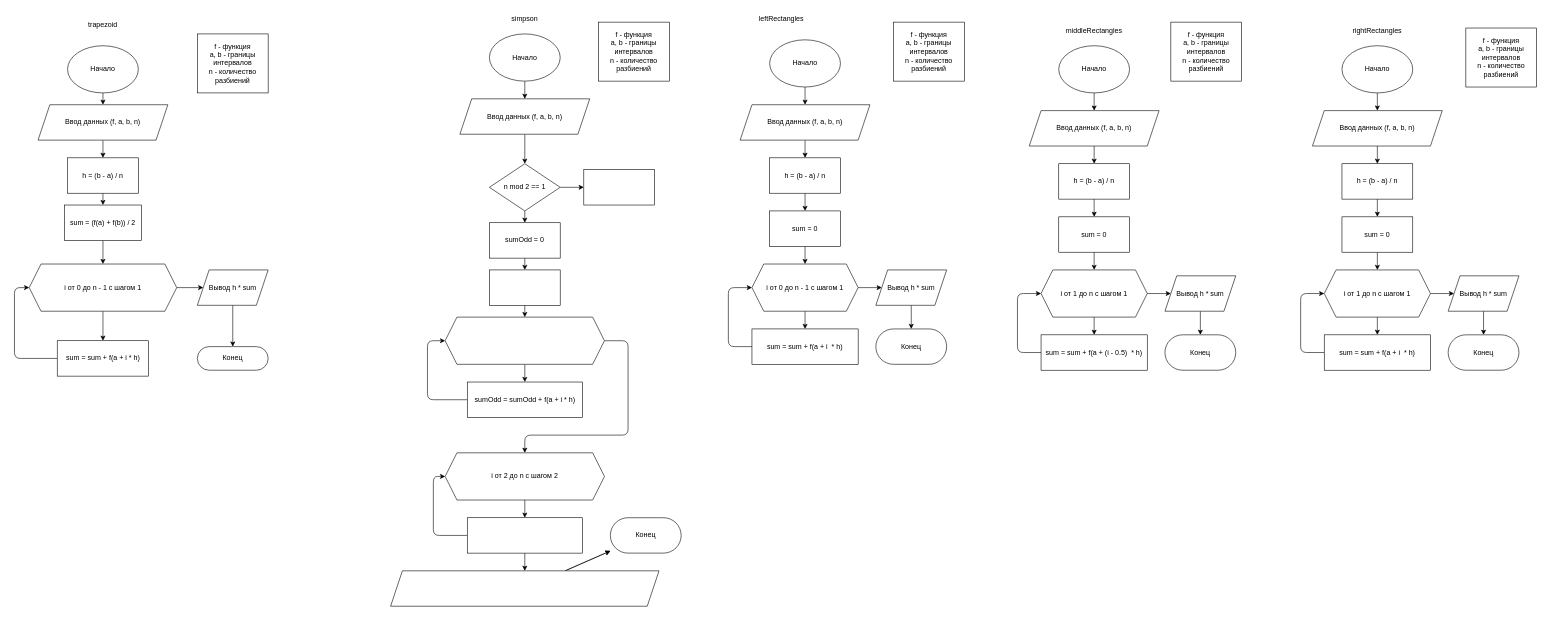
This 1547x617 diagram has some shape labels left out. The box of each missing label's shape, as (x1, y1, x2, y2) in pixels:
i от 1 до n с шагом 2: (445, 317, 604, 364)
n = n + 1: (583, 169, 655, 205)
sumEven = 0: (489, 269, 560, 305)
sumEven = sumEven + f(a + i * h): (467, 517, 582, 553)
Вывод (h / 3) * (f(a) + f(b) + 4 * sumOdd + 2 * sumEven): (390, 570, 659, 606)
